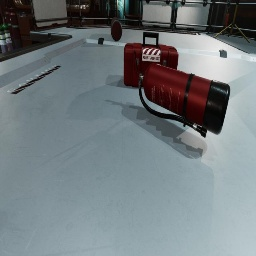0: (2, 16, 13, 51), (0, 24, 9, 53)
EmergencyPhone ,: (227, 0, 232, 8)
FireAlarm ,: (224, 14, 229, 26)
FireExtinguisher ]: (133, 51, 230, 138)
FirstAidBox ,: (124, 32, 179, 88)
NitrogenTank ,: (9, 7, 23, 49), (4, 7, 16, 49), (110, 17, 122, 41), (0, 20, 2, 54), (0, 12, 3, 26)
